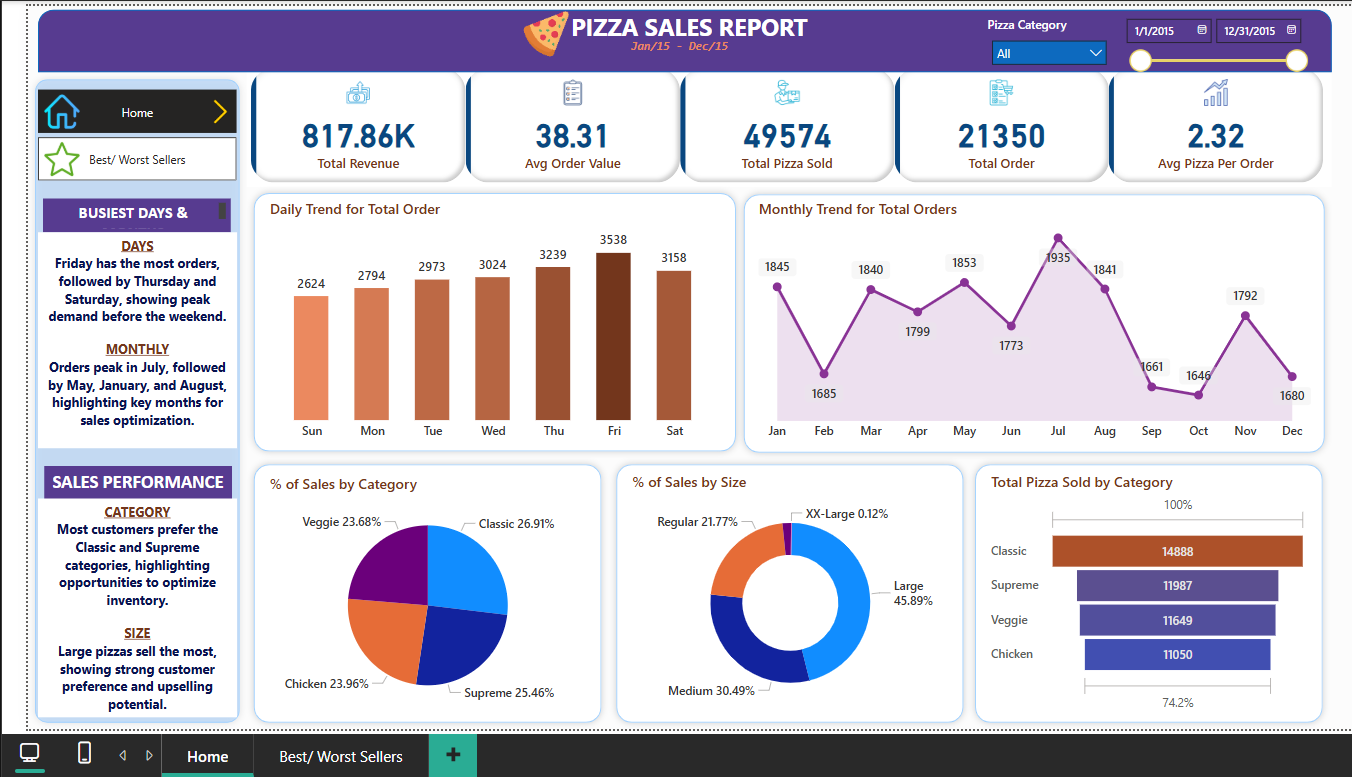

The dashboard page shown, as its layout file describes it:
{"tool":"powerbi","page":{"name":"Home","canvas":[1500,820],"ordinal":0},"visuals":[{"type":"cardVisual","fields":{"Data":["pizza_sales.Total Revenue","pizza_sales.Avg Order Value","pizza_sales.Total Pizza Sold","pizza_sales.Total Order","pizza_sales.Avg Pizza Per Order"]},"box":[247.9,65.2,1229.7,140.3],"z":0},{"type":"shape","box":[11.3,4.3,1466.3,70.8],"z":1000},{"type":"textbox","box":[604.9,0,289,52.4],"z":2000},{"type":"textbox","box":[672.9,31.2,130.3,29.8],"z":3000},{"type":"image","box":[552.5,0,69.4,63.8],"z":4000},{"type":"shape","box":[247.9,204,562.4,308.8],"z":5000},{"type":"columnChart","title":"Daily Trend for Total Order","fields":{"Category":["pizza_sales.Order Day"],"Y":["pizza_sales.Total Order"]},"box":[269.2,218.2,517.1,283.3],"z":6000},{"type":"shape","box":[803.3,205.4,674.4,308.8],"z":7000},{"type":"areaChart","title":"Monthly Trend for Total Orders","fields":{"Category":["pizza_sales.Order Month"],"Y":["pizza_sales.Total Order"]},"box":[823.1,218.2,636.1,283.3],"z":8000},{"type":"shape","box":[247.9,511.4,410,308.8],"z":9000},{"type":"shape","box":[658.8,511.4,409.4,308.8],"z":10000},{"type":"shape","box":[1065.4,511.4,410,308.8],"z":11000},{"type":"pieChart","title":"% of Sales by Category","fields":{"Category":["pizza_sales.pizza_category"],"Y":["pizza_sales.Total Revenue"]},"box":[269.2,529.9,368.4,277.7],"z":12000},{"type":"donutChart","title":"% of Sales by Size","fields":{"Y":["pizza_sales.Total Revenue"],"Category":["pizza_sales.pizza_size"]},"box":[680,527,368.4,277.7],"z":13000},{"type":"funnel","title":"Total Pizza Sold by Category","fields":{"Category":["pizza_sales.pizza_category"],"Y":["pizza_sales.Total Pizza Sold"]},"box":[1086.6,527,368.4,277.7],"z":14000},{"type":"shape","box":[0,75.1,247.9,745.2],"z":15000},{"type":"textbox","box":[17,218.2,212.5,38.3],"z":16000},{"type":"textbox","box":[11.3,256.4,225.3,245.1],"z":17000},{"type":"textbox","box":[18.4,521.4,212.5,38.3],"z":18000},{"type":"textbox","box":[11.3,558.2,225.3,247.9],"z":19000},{"type":"slicer","title":"Pizza Category","fields":{"Values":["pizza_sales.pizza_category"]},"box":[1082.4,11.3,150.2,58.1],"z":20000},{"type":"slicer","title":"Pizza Category","fields":{"Values":["pizza_sales.order_date"]},"box":[1232.6,4.3,226.7,72.3],"z":21000},{"type":"pageNavigator","box":[11.3,94.9,225.3,49.6],"z":22000},{"type":"pageNavigator","box":[11.3,148.8,225.3,49.6],"z":23000},{"type":"image","box":[11.3,94.9,53.8,49.6],"z":24000},{"type":"image","box":[199.8,94.9,36.8,49.6],"z":25000},{"type":"image","box":[11.3,148.8,53.8,49.6],"z":26000}]}

Visuals, with their boxes on the page's 1500x820 design canvas (x1, y1, x2, y2). These are canvas units, not pixel positions in the 1352x777 screenshot, which may show the page scaled, cropped or inside an application window:
cardVisual - pizza_sales.Total Revenue x pizza_sales.Avg Order Value: pyautogui.locateOnScreen(248, 65, 1478, 206)
shape: pyautogui.locateOnScreen(11, 4, 1478, 75)
textbox: pyautogui.locateOnScreen(605, 0, 894, 52)
textbox: pyautogui.locateOnScreen(673, 31, 803, 61)
image: pyautogui.locateOnScreen(552, 0, 622, 64)
shape: pyautogui.locateOnScreen(248, 204, 810, 513)
"Daily Trend for Total Order" columnChart: pyautogui.locateOnScreen(269, 218, 786, 502)
shape: pyautogui.locateOnScreen(803, 205, 1478, 514)
"Monthly Trend for Total Orders" areaChart: pyautogui.locateOnScreen(823, 218, 1459, 502)
shape: pyautogui.locateOnScreen(248, 511, 658, 820)
shape: pyautogui.locateOnScreen(659, 511, 1068, 820)
shape: pyautogui.locateOnScreen(1065, 511, 1475, 820)
"% of Sales by Category" pieChart: pyautogui.locateOnScreen(269, 530, 638, 808)
"% of Sales by Size" donutChart: pyautogui.locateOnScreen(680, 527, 1048, 805)
"Total Pizza Sold by Category" funnel: pyautogui.locateOnScreen(1087, 527, 1455, 805)
shape: pyautogui.locateOnScreen(0, 75, 248, 820)
textbox: pyautogui.locateOnScreen(17, 218, 230, 256)
textbox: pyautogui.locateOnScreen(11, 256, 237, 502)
textbox: pyautogui.locateOnScreen(18, 521, 231, 560)
textbox: pyautogui.locateOnScreen(11, 558, 237, 806)
"Pizza Category" slicer: pyautogui.locateOnScreen(1082, 11, 1233, 69)
"Pizza Category" slicer: pyautogui.locateOnScreen(1233, 4, 1459, 77)
pageNavigator: pyautogui.locateOnScreen(11, 95, 237, 144)
pageNavigator: pyautogui.locateOnScreen(11, 149, 237, 198)
image: pyautogui.locateOnScreen(11, 95, 65, 144)
image: pyautogui.locateOnScreen(200, 95, 237, 144)
image: pyautogui.locateOnScreen(11, 149, 65, 198)
